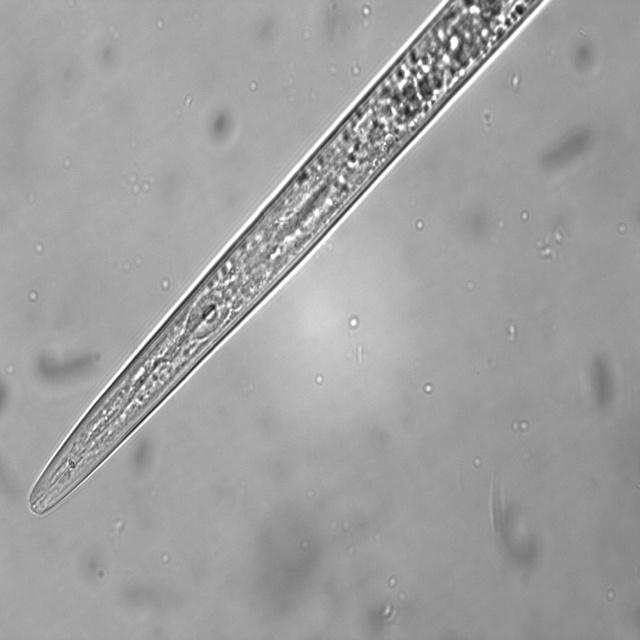Meloidogyne: (26, 0, 548, 522)
